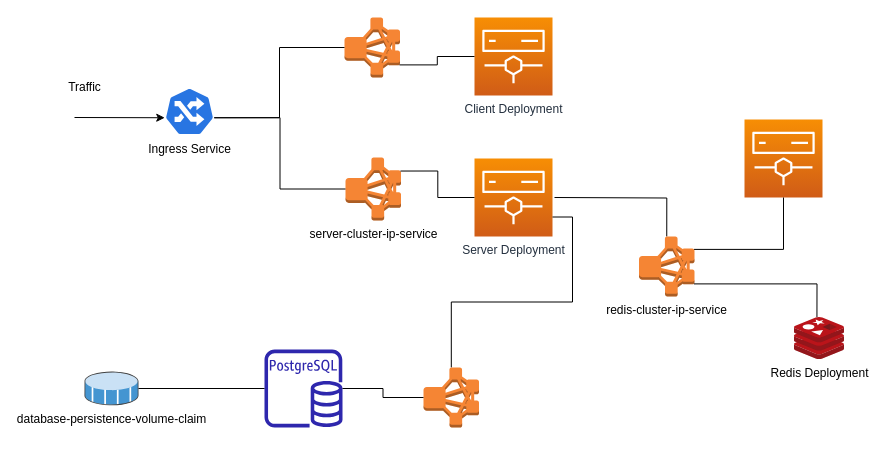
Some shapes in this 886 by 466 pixel diagram are drawn without their labels. Each missing label, with the box of its shape:
client-cluster-ip-service: (344, 16, 400, 78)
postgres-cluster-ip-service: (422, 366, 479, 428)
PostgreSQL Deployment: (264, 349, 342, 427)
Worker Deployment: (744, 118, 822, 198)
